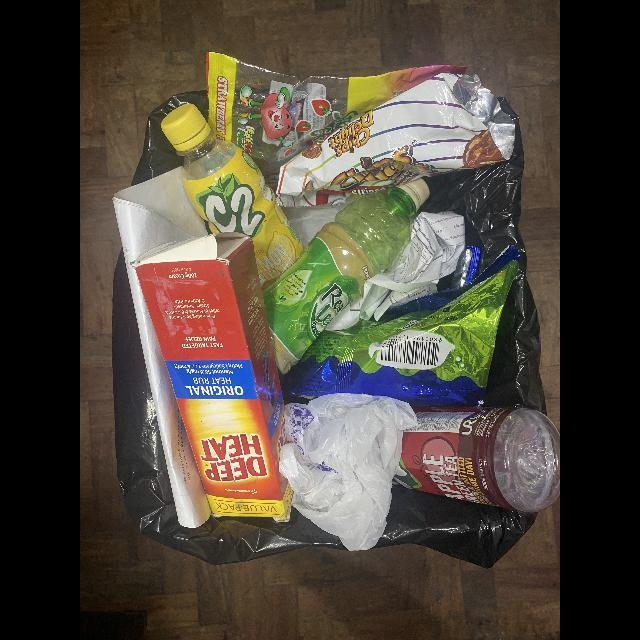cardboard: (134, 232, 295, 521)
food_wrapper: (281, 246, 522, 408), (205, 51, 467, 195), (274, 73, 515, 208)
paper: (114, 164, 217, 530), (325, 210, 465, 329)
plastic_bag: (276, 394, 417, 552)
plastic_bottle: (263, 178, 429, 379), (160, 104, 305, 289), (394, 406, 560, 514)
